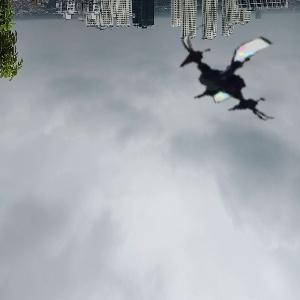drone: (173, 18, 289, 134)
